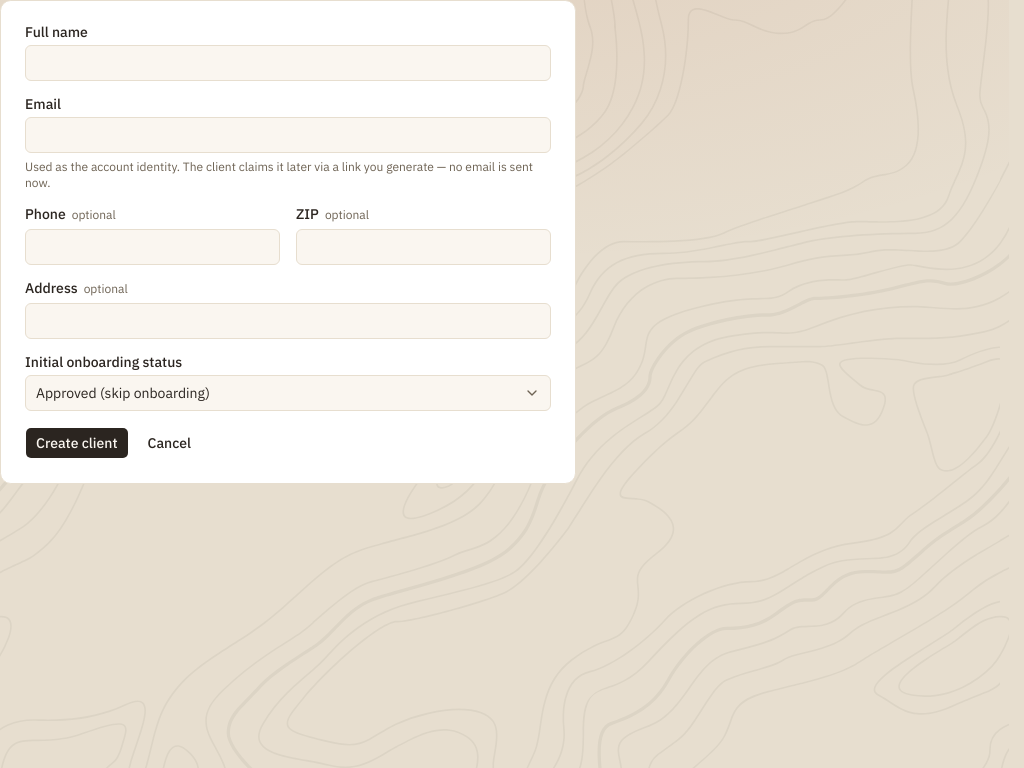
Test: NewClientForm › shows the email_exists message and a link to the existing client, and preserves typed values
The image size is (1024, 768).
Type "Jane Doe" into the field labelled "Full name" at coordinates (288, 63), box [25, 45, 551, 81]
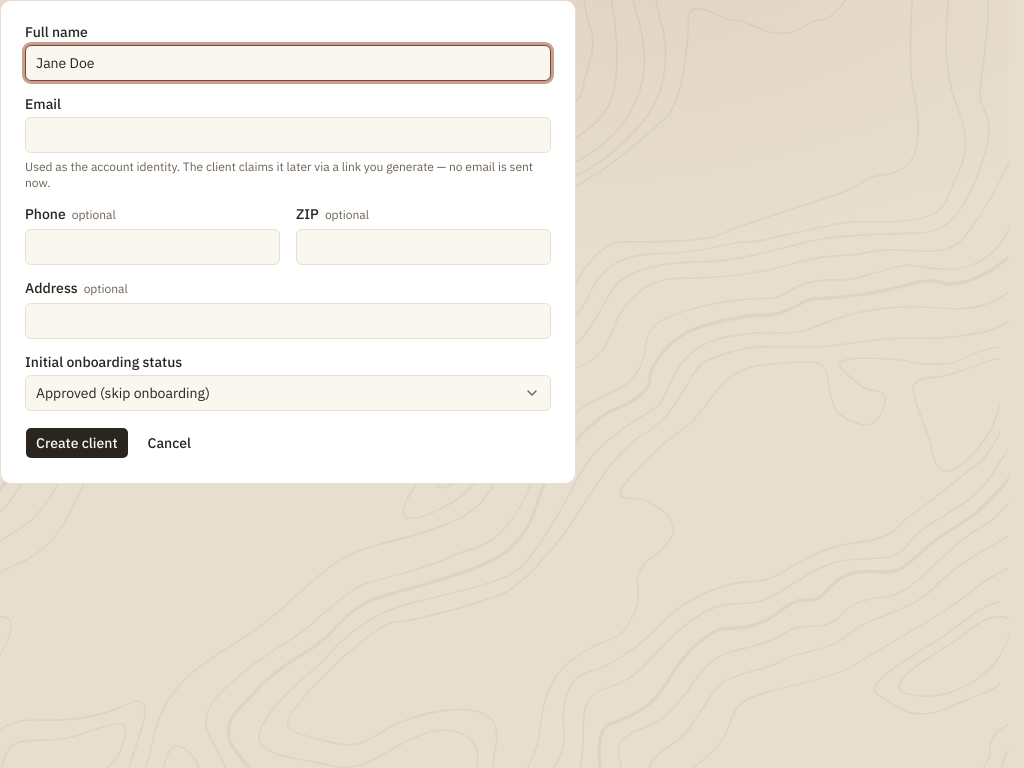
Type "jane@example.com" into the field labelled "Email" at coordinates (288, 135), box [25, 117, 551, 153]
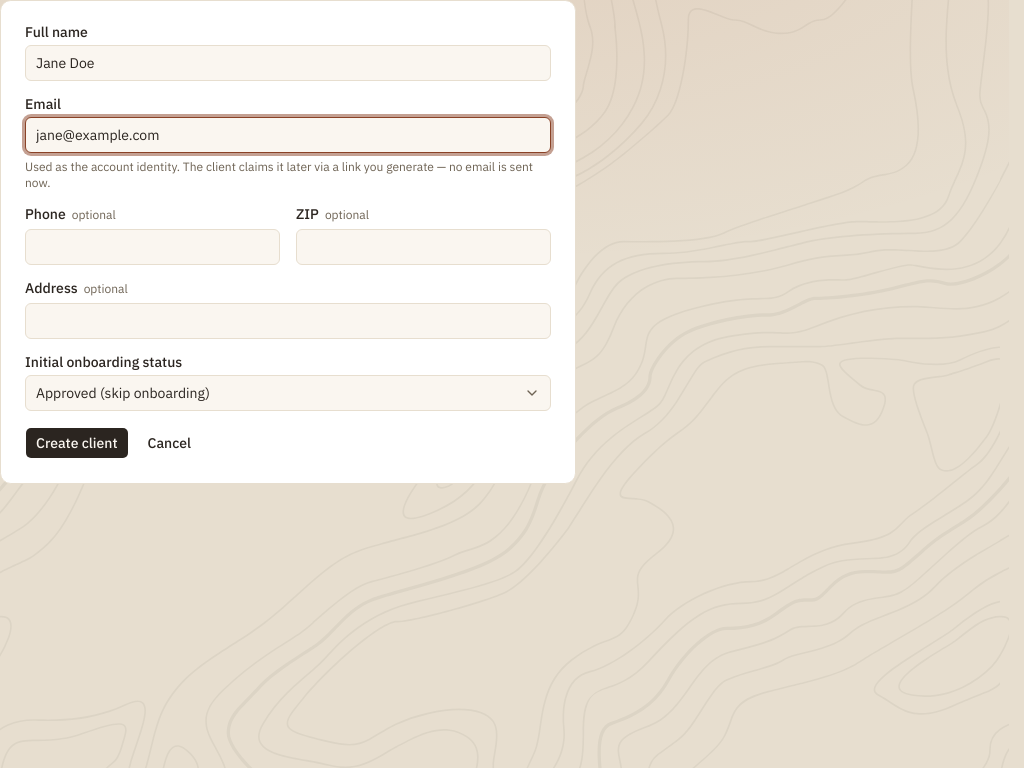
Click the button "Create client" at coordinates (77, 443), box [25, 427, 128, 459]
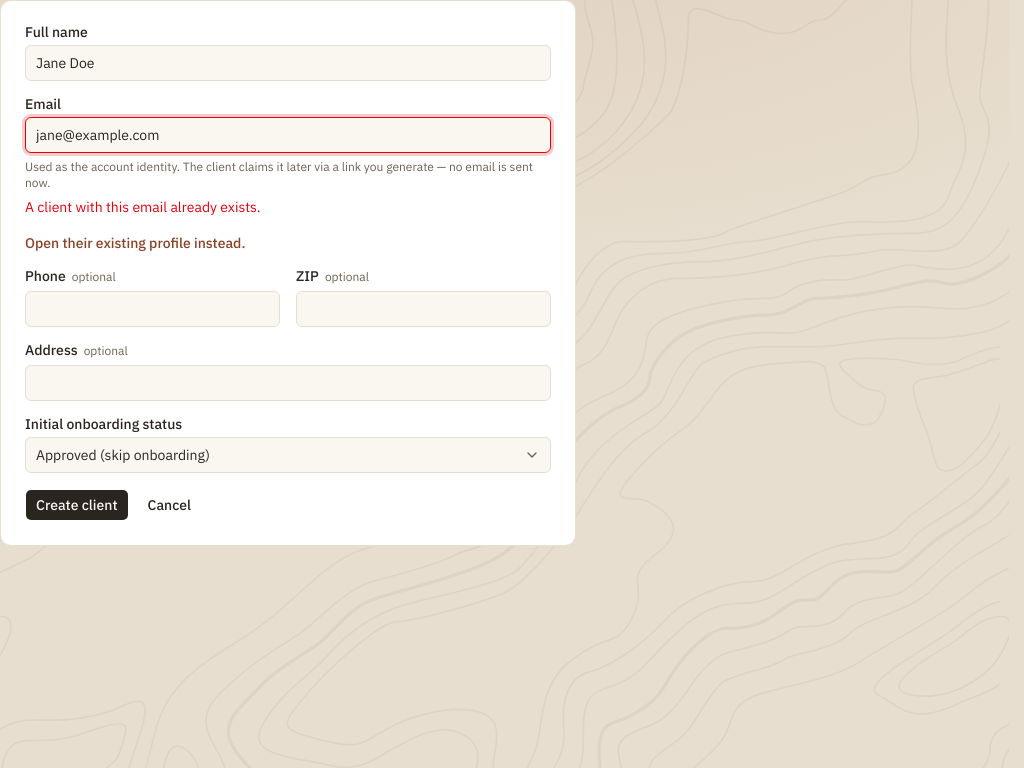
Check: the text "A client with this email already exists." is shown, box [25, 198, 261, 216]
